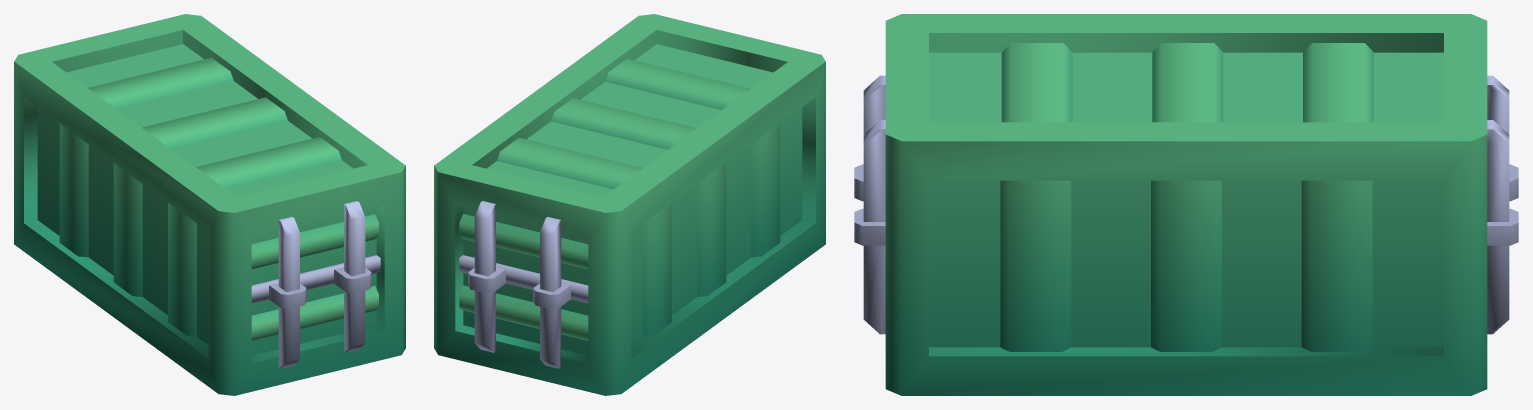
File: container_2.fbx
The picture shows the model from 3 angles, left to right: view 1: azimuth 30°, elevation 25°; view 2: azimuth 150°, elevation 25°; view 3: azimuth 270°, elevation 25°; orthographic projection. The views are drawn at different scales.
Visible parts, largest first — view 1: container_2; view 2: container_2; view 3: container_2.
Boxes of the visible parts, bbox=[...] form: container_2: bbox=[14, 14, 405, 395]; container_2: bbox=[434, 14, 825, 395]; container_2: bbox=[854, 14, 1518, 395].
Bounding box in the file's own units: 0.3726 × 0.3481 × 0.8226.
1 material, 1 textured.
